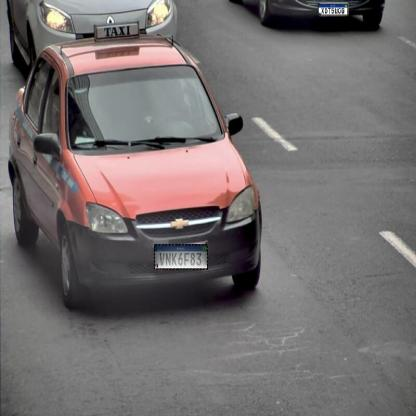PlacaM: (154, 244, 208, 270), (318, 4, 348, 15)
